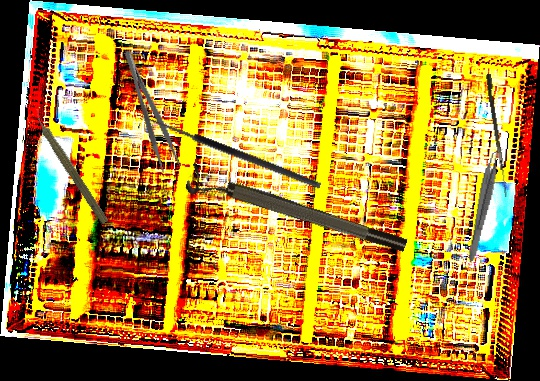Dressing Forceps: (121, 46, 182, 174)
Fixation Ring: (184, 161, 409, 266)
Handpiece: (27, 105, 113, 226)
Hook Surgical: (137, 113, 322, 198), (483, 73, 513, 198)
Tissue Forceps: (466, 145, 504, 264)
